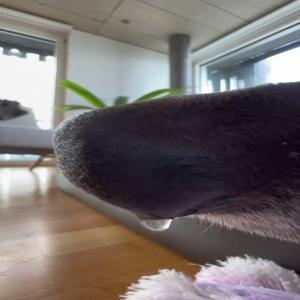nasal_discharge: (93, 188, 178, 241)
